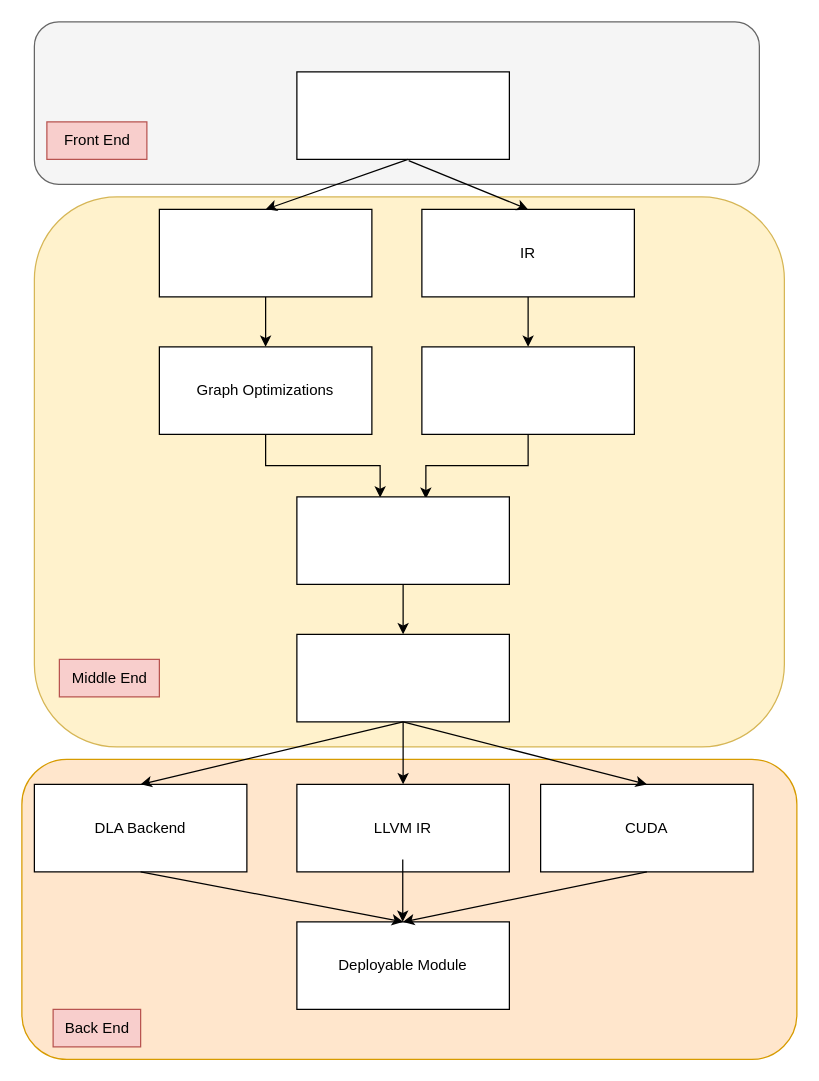
Image size: 819x1081. Some labels were removed from this diagram. Here are the shapes that lost their labels. From the top down, the centre of each, then its label:
At point 402,115: "High Level Model Description".
At point 265,252: "Computational Graph".
At point 527,390: "IR optimizations".
At point 402,540: "Operator Scheduling and Runtime Generation".
At point 402,677: "Code Generation".
